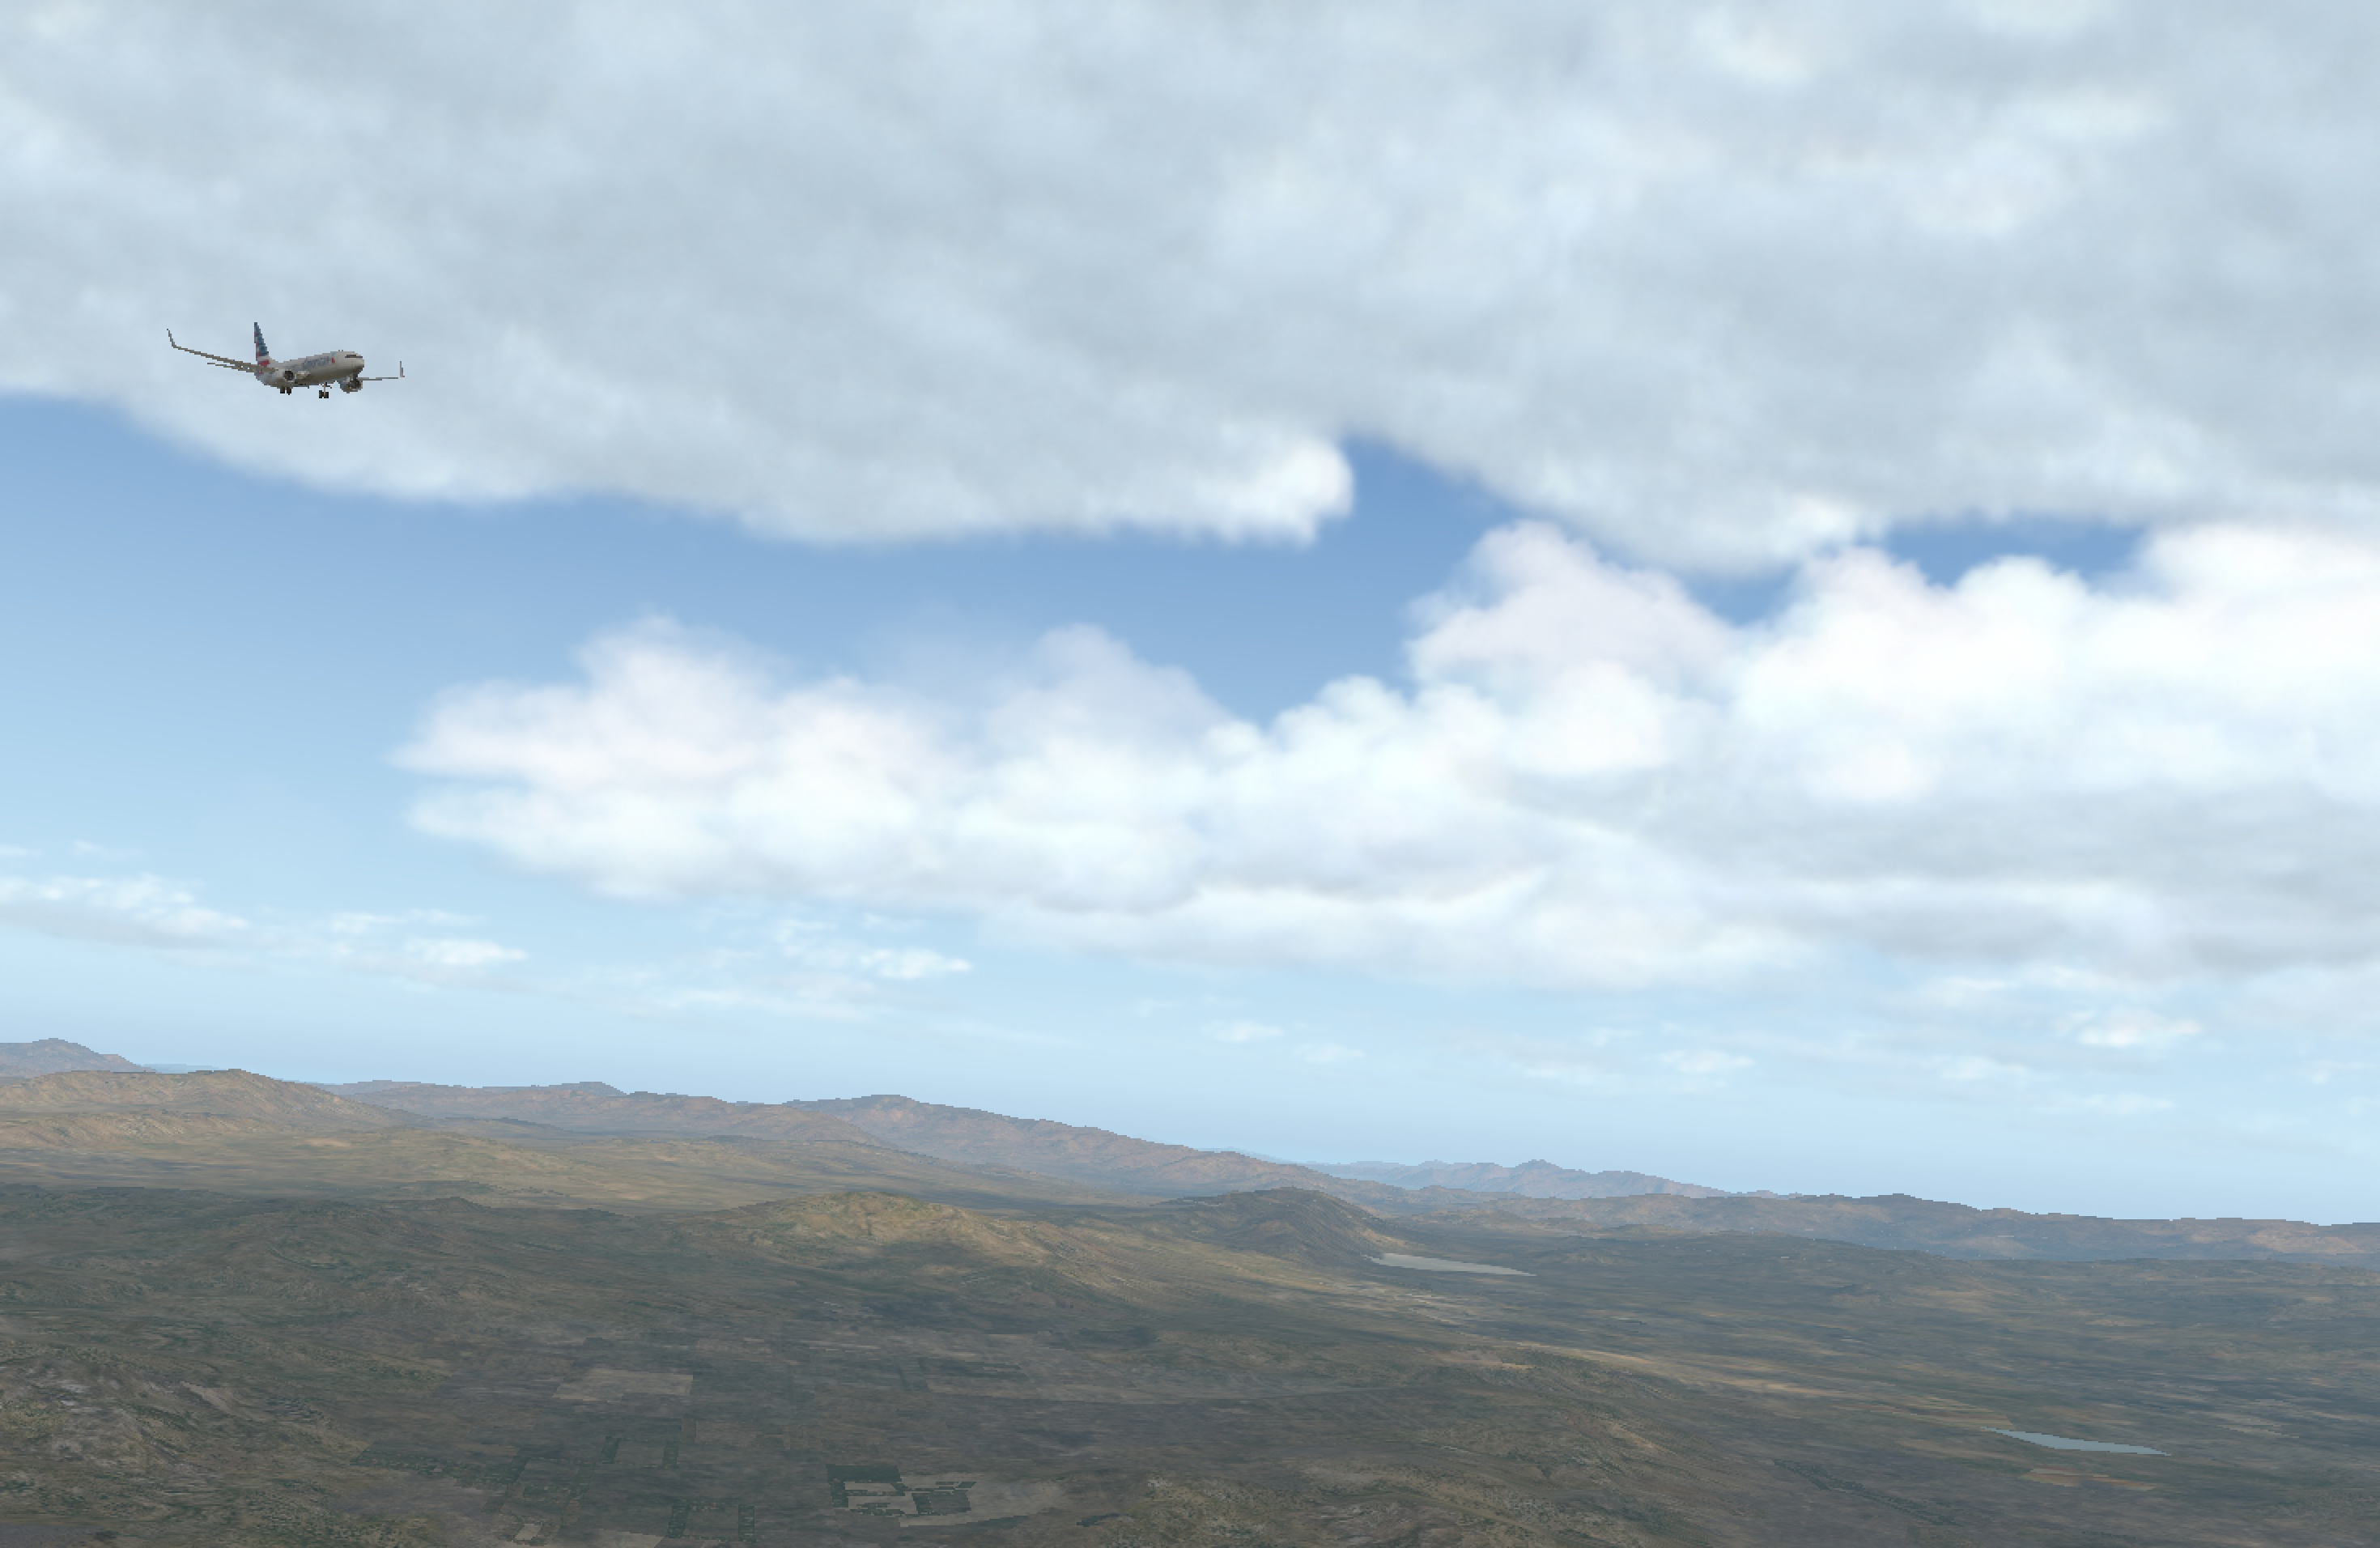aircraft: (189, 330, 428, 420)
